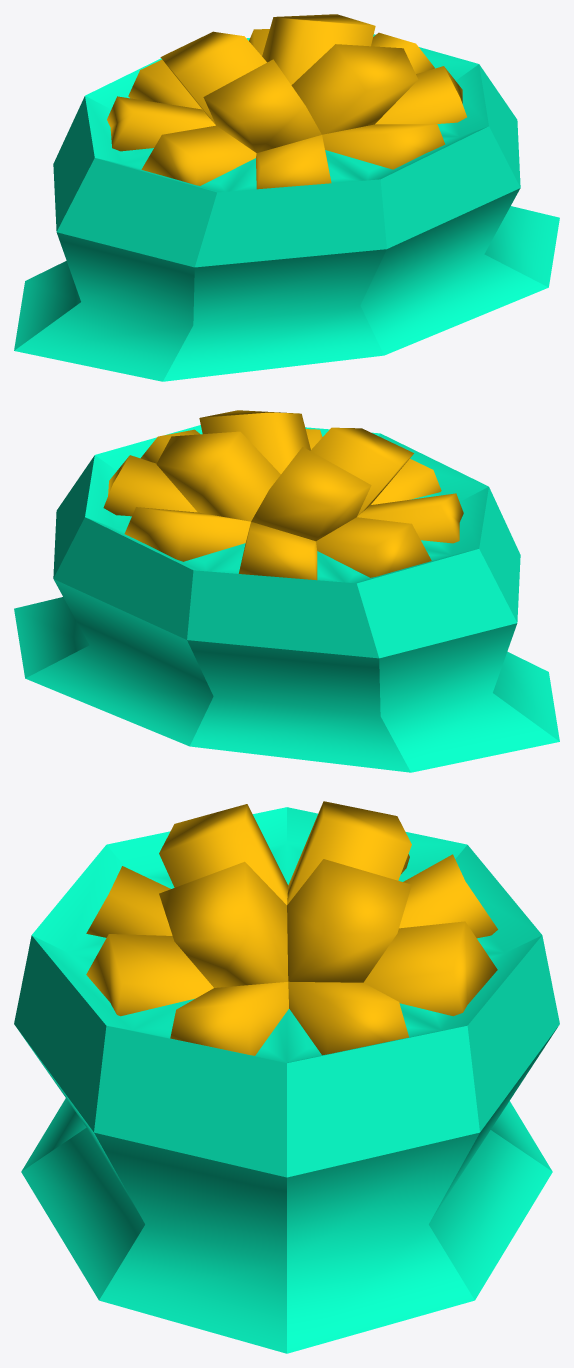
The model's file is plante_4_etape_1.fbx.
3 views of the same model, one above another, from view 1: azimuth 30°, elevation 25°; view 2: azimuth 150°, elevation 25°; view 3: azimuth 270°, elevation 25° (orthographic). The views are drawn at different scales.
Parts seen in each view (by area): view 1: stage_1; view 2: stage_1; view 3: stage_1.
Part boxes in pixels (x1=…): stage_1: x1=14, y1=14, x2=559, y2=381; stage_1: x1=14, y1=410, x2=559, y2=772; stage_1: x1=14, y1=801, x2=559, y2=1353.
Bounding box in the file's own units: 4.3 × 1.85 × 2.73.
